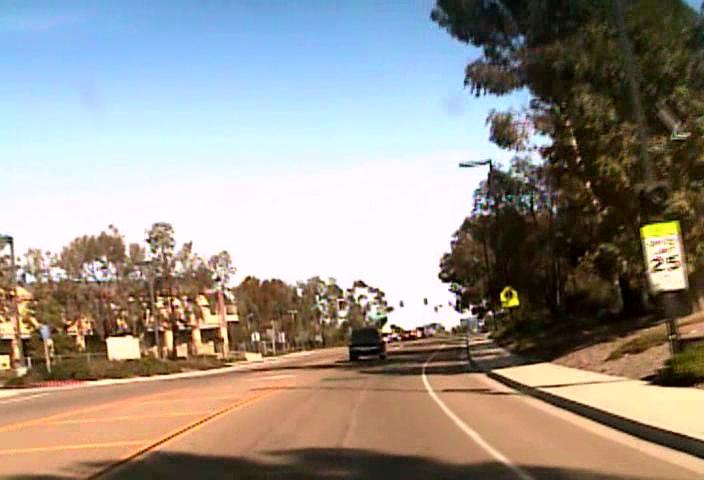schoolSpeedLimit25: (640, 219, 688, 292)
